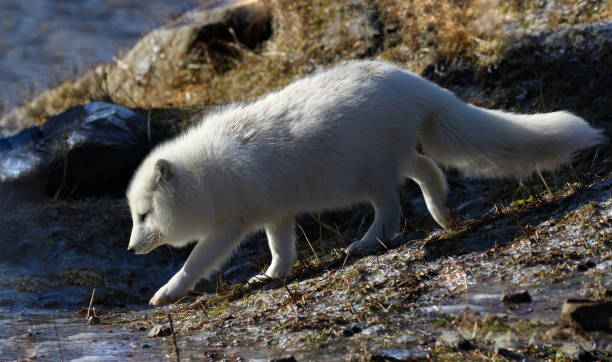arcticfox: (111, 183, 185, 267)
